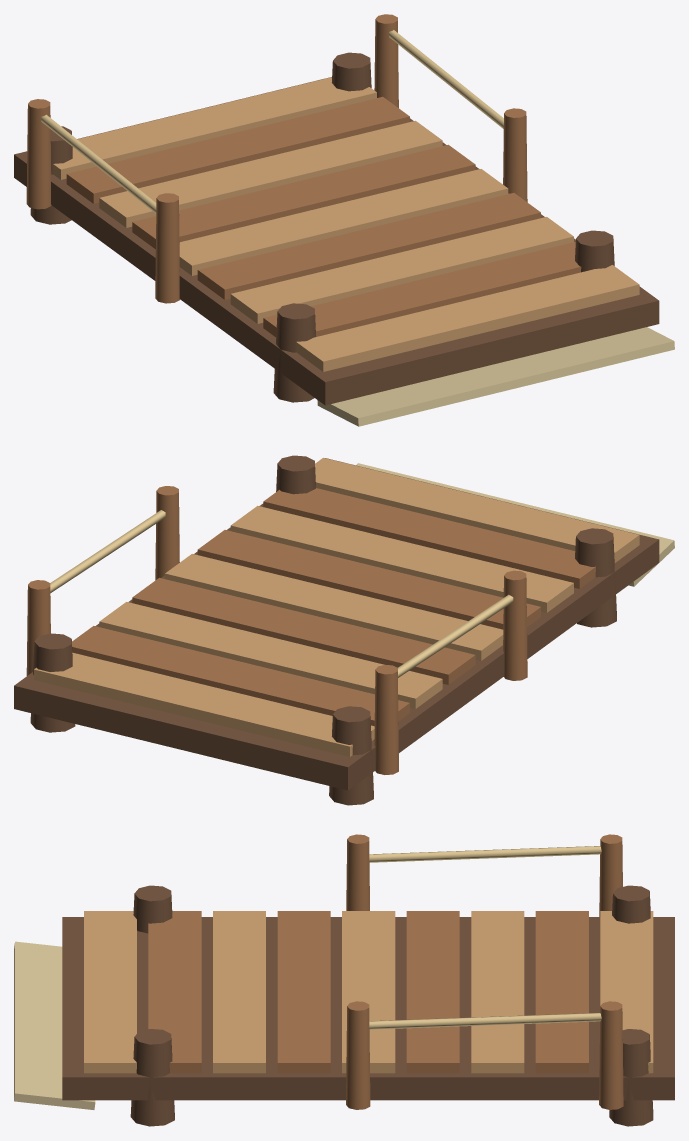
File: small-dock.glb
3 renders of one model, top to bottom at view 1: azimuth 30°, elevation 25°; view 2: azimuth 150°, elevation 25°; view 3: azimuth 270°, elevation 25°, orthographic.
Parts seen in each view (by area): view 1: small-dock_woodLight, small-dock_wood, small-dock_woodDark, small-dock_sand, small-dock_rope; view 2: small-dock_woodLight, small-dock_wood, small-dock_woodDark, small-dock_rope, small-dock_sand; view 3: small-dock_woodDark, small-dock_wood, small-dock_woodLight, small-dock_sand, small-dock_rope.
Boxes of the visible parts, bbox=[...] form: small-dock_woodLight: bbox=[53, 77, 639, 371]; small-dock_wood: bbox=[26, 14, 581, 337]; small-dock_woodDark: bbox=[14, 52, 659, 405]; small-dock_sand: bbox=[317, 327, 674, 426]; small-dock_rope: bbox=[41, 30, 503, 213]; small-dock_woodLight: bbox=[34, 457, 639, 756]; small-dock_wood: bbox=[26, 486, 595, 774]; small-dock_woodDark: bbox=[14, 455, 659, 805]; small-dock_rope: bbox=[50, 510, 513, 677]; small-dock_sand: bbox=[356, 463, 674, 586]; small-dock_woodDark: bbox=[62, 885, 674, 1126]; small-dock_wood: bbox=[148, 834, 623, 1109]; small-dock_woodLight: bbox=[84, 911, 653, 1073]; small-dock_sand: bbox=[14, 941, 95, 1109]; small-dock_rope: bbox=[369, 846, 601, 1029].
Bounding box in the file's own units: 1.66 × 0.535 × 2.61.
